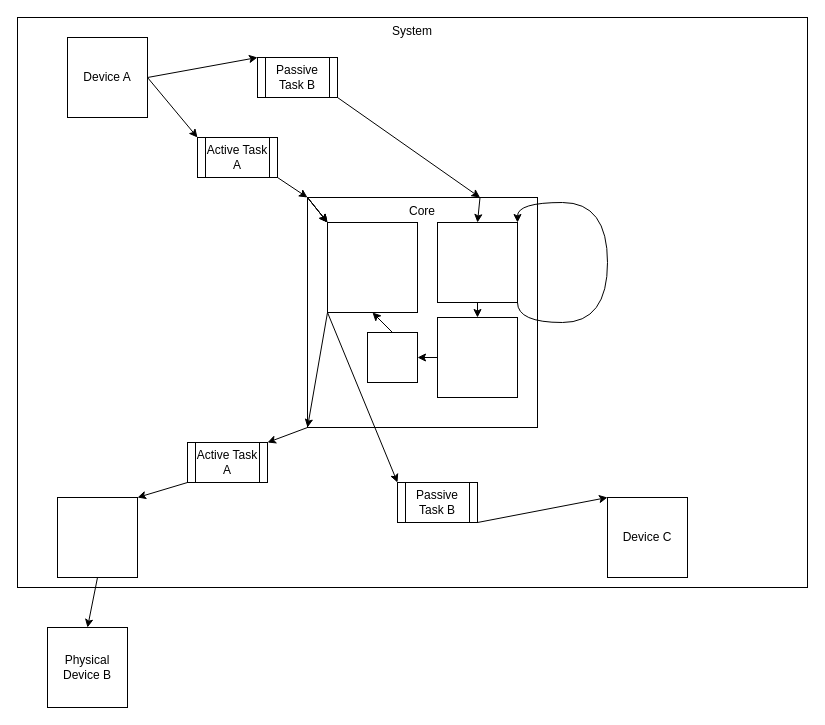
Image size: 825x725. Some labels were removed from this diagram. The shapes that lost their labels are listed below. From the top down, each one's centre as x and y in pixels, then its label:
[372,267]: Scheduler
[477,262]: Polling system
[392,357]: States
[477,357]: Condition Checker
[97,537]: Device B
